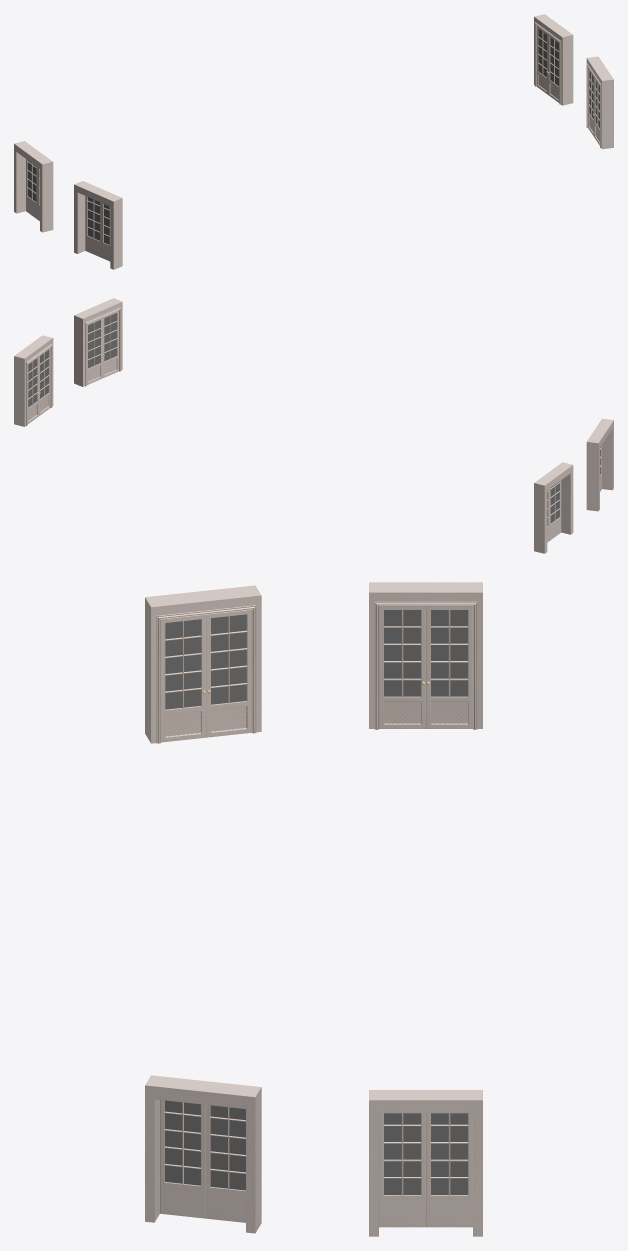
The model's file is DoorBalcony.fbx.
3 renders of one model, top to bottom at view 1: azimuth 30°, elevation 25°; view 2: azimuth 150°, elevation 25°; view 3: azimuth 270°, elevation 25°, orthographic. The views are drawn at different scales.
Parts seen in each view (by area): view 1: DoorBalconyF, DoorBalcony, DoorBalconyFGlass, DoorBalconyGlass; view 2: DoorBalcony, DoorBalconyF, DoorBalconyGlass, DoorBalconyFGlass; view 3: DoorBalconyF, DoorBalcony, DoorBalconyFGlass, DoorBalconyGlass.
Boxes of the visible parts, left/top/right/bottom form: DoorBalconyF: left=14, top=141, right=122, bottom=269; DoorBalcony: left=534, top=14, right=613, bottom=149; DoorBalconyFGlass: left=27, top=160, right=109, bottom=244; DoorBalconyGlass: left=538, top=28, right=599, bottom=128; DoorBalcony: left=14, top=298, right=122, bottom=426; DoorBalconyF: left=534, top=418, right=613, bottom=553; DoorBalconyGlass: left=28, top=313, right=116, bottom=407; DoorBalconyFGlass: left=547, top=447, right=600, bottom=525; DoorBalconyF: left=145, top=582, right=482, bottom=743; DoorBalcony: left=145, top=1075, right=482, bottom=1236; DoorBalconyFGlass: left=165, top=610, right=467, bottom=709; DoorBalconyGlass: left=165, top=1100, right=467, bottom=1194.
Bounding box in the file's own units: 2476 × 304 × 682.
2 materials, 1 textured.
